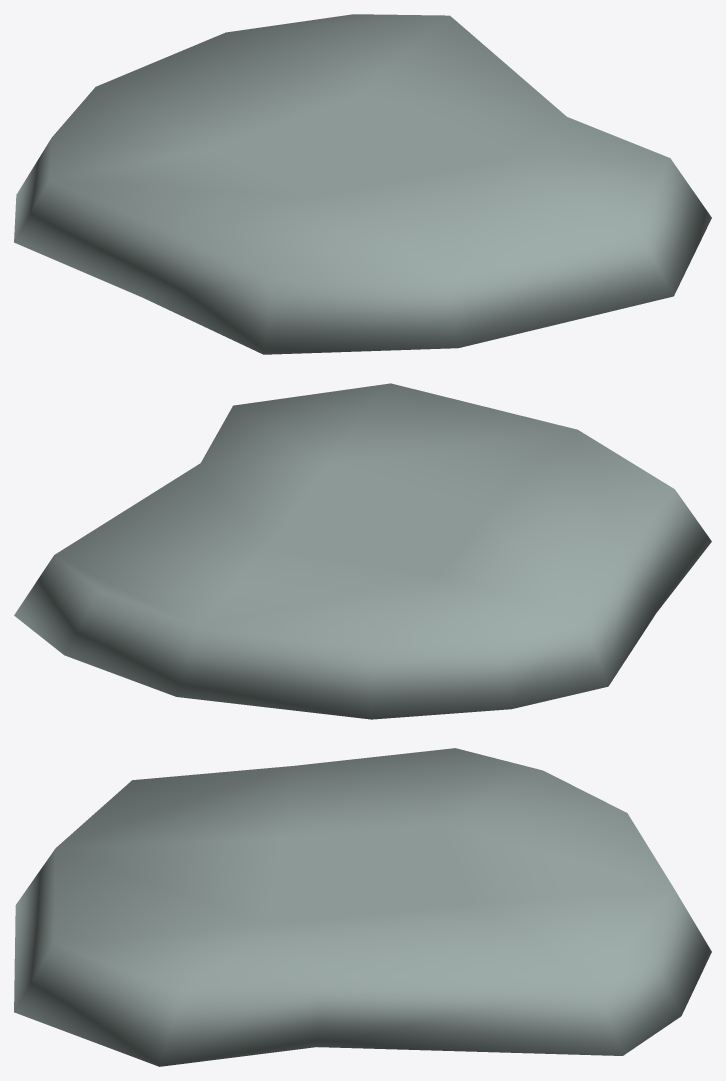
The model's file is desert path5.fbx.
The picture shows the model from 3 angles, top to bottom: view 1: azimuth 30°, elevation 25°; view 2: azimuth 150°, elevation 25°; view 3: azimuth 270°, elevation 25°; orthographic projection. The views are drawn at different scales.
Visible parts, largest first — view 1: desert path5; view 2: desert path5; view 3: desert path5.
Part boxes in pixels (bbox=[...]): desert path5: bbox=[14, 14, 711, 354]; desert path5: bbox=[14, 383, 711, 719]; desert path5: bbox=[14, 748, 711, 1066].
Size of the model in its own units: 81.71 by 8.32 by 87.86.
